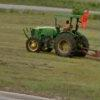Tractor: (20, 10, 95, 61)
